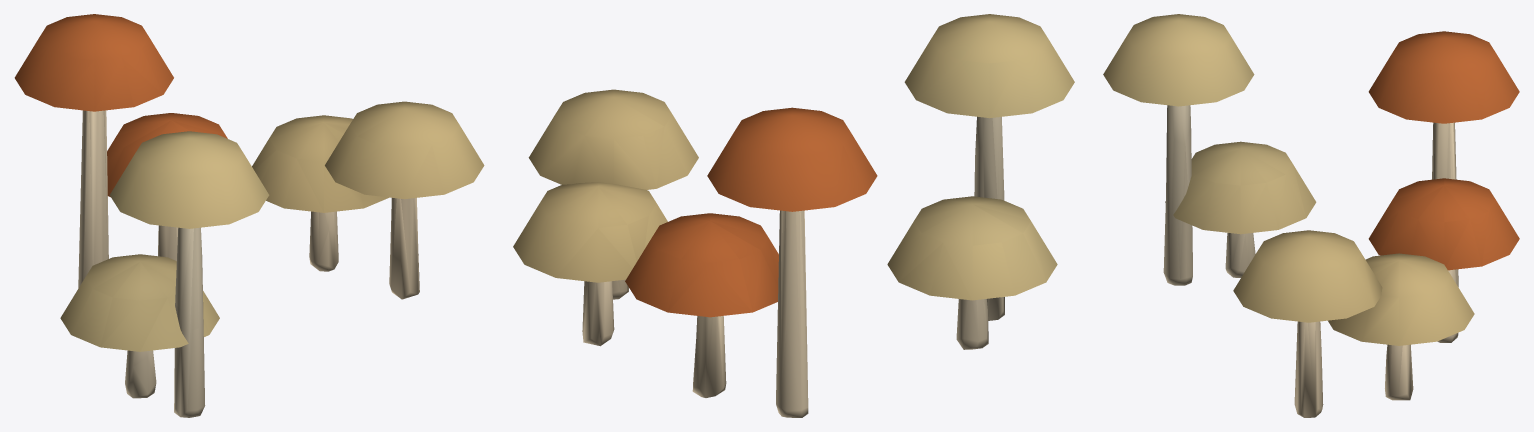
Rendered from mire_gc_toadstools_lod1.glb.
3 views of the same model, side by side, from view 1: azimuth 30°, elevation 25°; view 2: azimuth 150°, elevation 25°; view 3: azimuth 270°, elevation 25° (orthographic). The views are drawn at different scales.
Parts seen in each view (by area): view 1: mire_gc_toadstools.001; view 2: mire_gc_toadstools.001; view 3: mire_gc_toadstools.001.
Boxes of the visible parts, <box> form: mire_gc_toadstools.001: <box>14,14,484,417</box>; mire_gc_toadstools.001: <box>513,14,1074,417</box>; mire_gc_toadstools.001: <box>1103,14,1519,417</box>.
Size of the model in its own units: 2.03 by 1.23 by 1.76.
